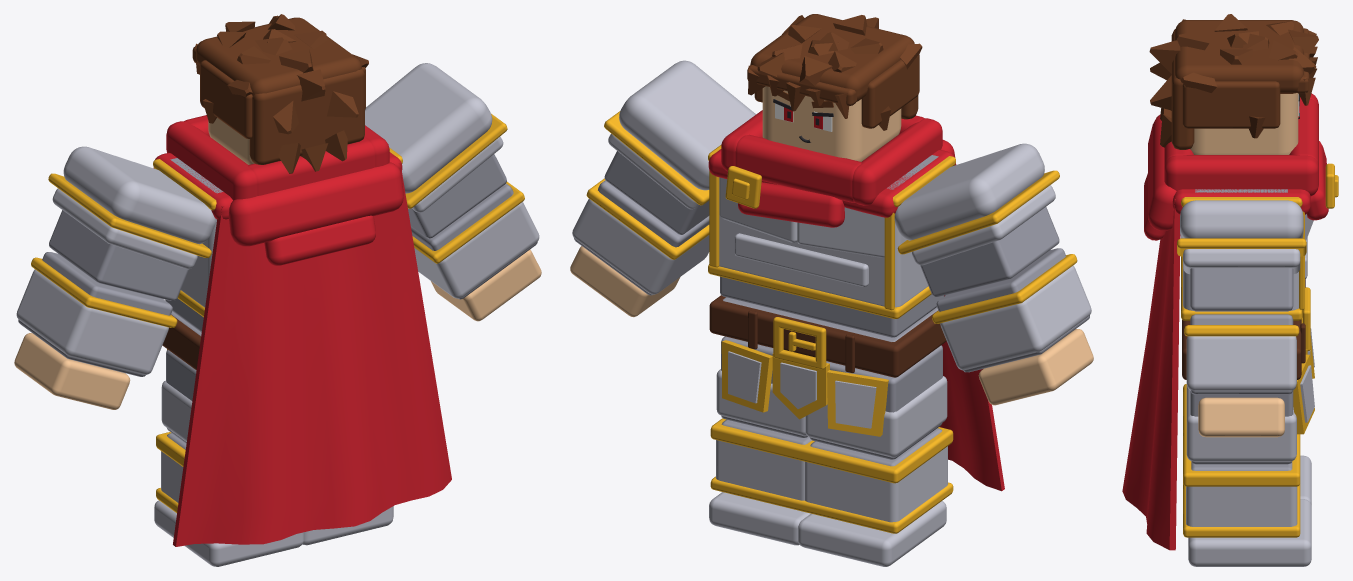
The model's file is warden_male.glb.
The picture shows the model from 3 angles, left to right: view 1: azimuth 30°, elevation 25°; view 2: azimuth 150°, elevation 25°; view 3: azimuth 270°, elevation 25°; orthographic projection.
Visible parts, largest first — view 1: Cape_Cloth, RightUpperArm_PauldronDome, Scarf_BackDrape, LeftLowerArm_Vambrace, LeftUpperArm_PauldronDome, Hair_Back, LeftUpperArm_Body, Hair_Cap, RightLowerArm_Vambrace, LeftHand_Skin, Scarf_CollarL, RightUpperArm_Body (+25 smaller); view 2: RightUpperArm_PauldronDome, LeftLowerArm_Vambrace, LeftUpperArm_PauldronDome, LowerTorso_Belt, UpperTorso_Breastplate, LeftLowerLeg_Greave, LeftUpperArm_Body, RightLowerArm_Vambrace, Cape_Cloth, Head_Skin, Scarf_CollarFront, Hair_Cap (+44 smaller); view 3: Cape_Cloth, RightLowerArm_Vambrace, Hair_Cap, Scarf_CollarR, RightUpperArm_PauldronDome, RightLowerLeg_Greave, RightUpperArm_Body, Hair_SideR, RightFoot_Sabaton, RightHand_Skin, RightUpperLeg_Cuisse, Head_Skin (+35 smaller).
Part boxes in pixels (box(x1,y1,x2,y2)): Cape_Cloth: box(173, 163, 451, 546); RightUpperArm_PauldronDome: box(365, 63, 492, 193); Scarf_BackDrape: box(228, 162, 403, 246); LeftLowerArm_Vambrace: box(16, 269, 168, 374); LeftUpperArm_PauldronDome: box(63, 146, 215, 244); Hair_Back: box(249, 68, 364, 164); LeftUpperArm_Body: box(49, 210, 188, 300); Hair_Cap: box(196, 17, 361, 95); RightLowerArm_Vambrace: box(414, 202, 539, 298); LeftHand_Skin: box(14, 333, 130, 409); Scarf_CollarL: box(166, 121, 257, 200); RightUpperArm_Body: box(408, 154, 506, 238); RightUpperArm_PauldronDome: box(619, 60, 755, 190); LeftLowerArm_Vambrace: box(940, 265, 1091, 370); LeftUpperArm_PauldronDome: box(894, 143, 1044, 240); LowerTorso_Belt: box(709, 295, 946, 377); UpperTorso_Breastplate: box(719, 177, 928, 307); LeftLowerLeg_Greave: box(805, 446, 947, 522); LeftUpperArm_Body: box(920, 207, 1059, 296); RightLowerArm_Vambrace: box(572, 199, 709, 294); Cape_Cloth: box(939, 154, 1004, 491); Head_Skin: box(762, 86, 901, 161); Scarf_CollarFront: box(735, 134, 861, 202); Hair_Cap: box(750, 14, 914, 101); Cape_Cloth: box(1122, 199, 1180, 550); RightLowerArm_Vambrace: box(1186, 336, 1296, 390); Hair_Cap: box(1175, 20, 1303, 93); Scarf_CollarR: box(1164, 155, 1318, 196); RightUpperArm_PauldronDome: box(1180, 200, 1303, 238); RightLowerLeg_Greave: box(1186, 486, 1297, 526); RightUpperArm_Body: box(1190, 268, 1293, 311); Hair_SideR: box(1182, 81, 1280, 128); RightFoot_Sabaton: box(1188, 499, 1311, 566); RightHand_Skin: box(1198, 397, 1284, 437); RightUpperLeg_Cuisse: box(1186, 385, 1296, 461); Head_Skin: box(1190, 93, 1298, 154).
Size of the model in its own units: 5.49 by 5.28 by 2.1.
